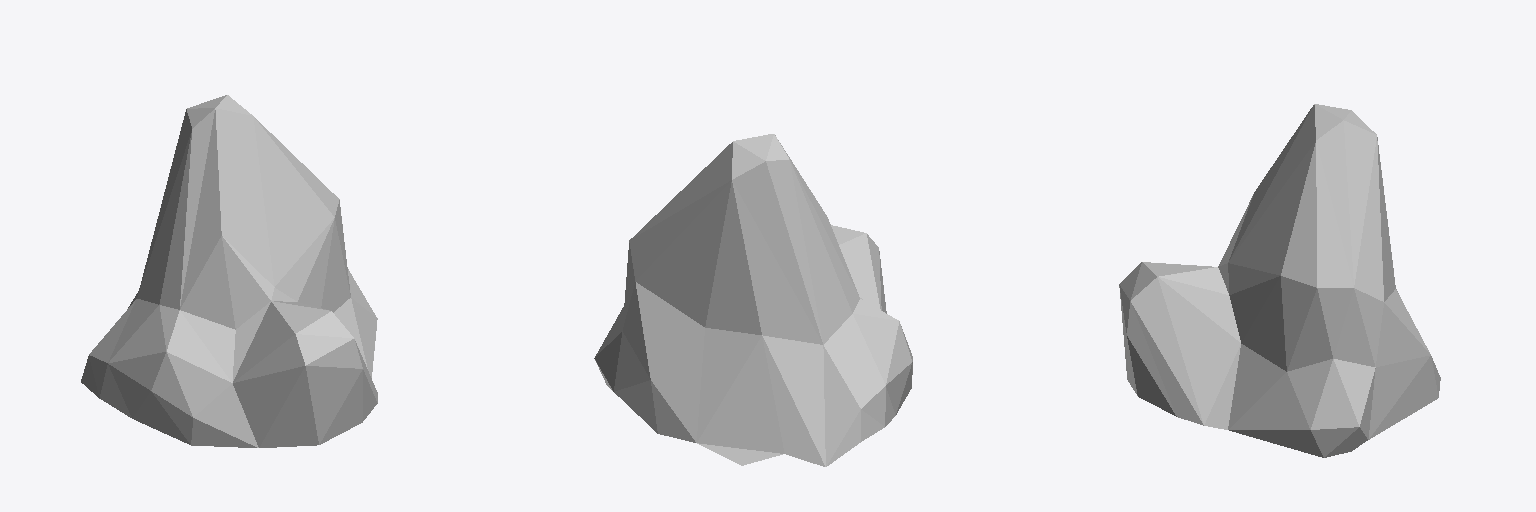
Rendered from stone72.obj.
3 renders of one model, left to right at view 1: azimuth 30°, elevation 25°; view 2: azimuth 150°, elevation 25°; view 3: azimuth 270°, elevation 25°, orthographic.
Visible parts, largest first — view 1: stone7_Group1.006; view 2: stone7_Group1.006; view 3: stone7_Group1.006.
Boxes of the visible parts, x1=… form: stone7_Group1.006: x1=81, y1=95, x2=377, y2=447; stone7_Group1.006: x1=594, y1=134, x2=912, y2=466; stone7_Group1.006: x1=1119, y1=104, x2=1440, y2=457.
Bounding box in the file's own units: 2.26 × 2.22 × 2.29.